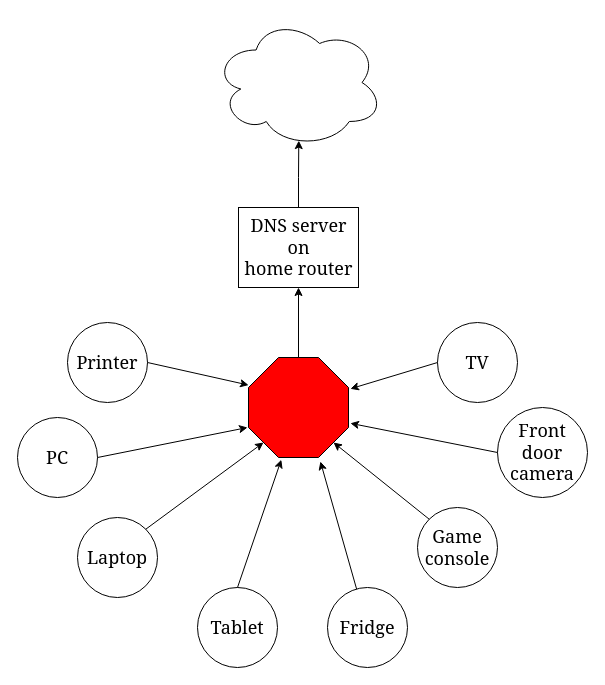
Some shapes in this 605 by 685 pixel diagram are drawn without their labels. The box of each missing label's shape, as (x1, y1, x2, y2) in pixels:
Pi-hole DNS server: (248, 356, 348, 458)
Upstream DNS server: (213, 16, 383, 148)
